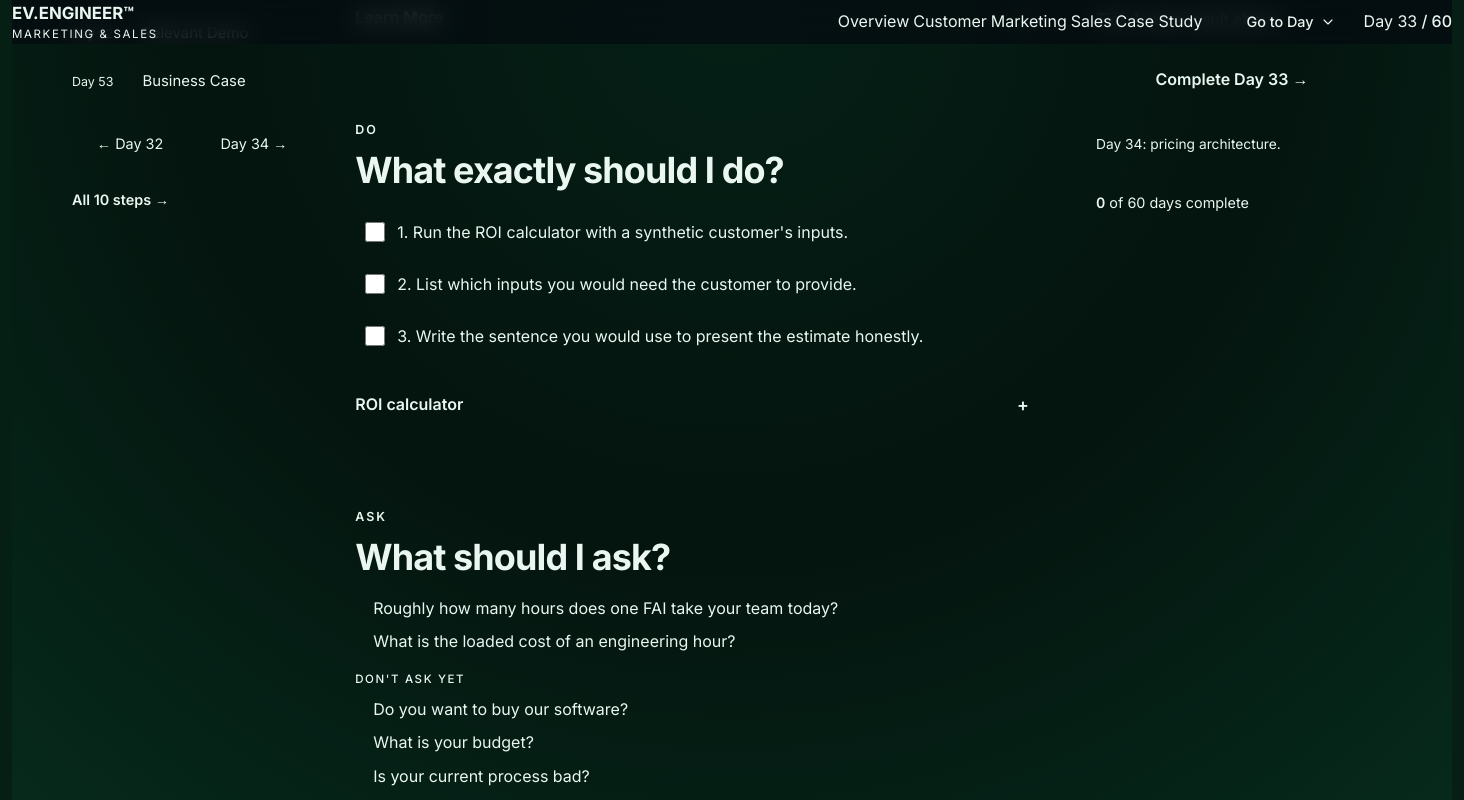
it: Today: what do I do today? › brings the ROI calculator into Day 33's Do card
(page scrolled)
Click the heading "ROI calculator" at [409, 404], box [355,394,463,414]
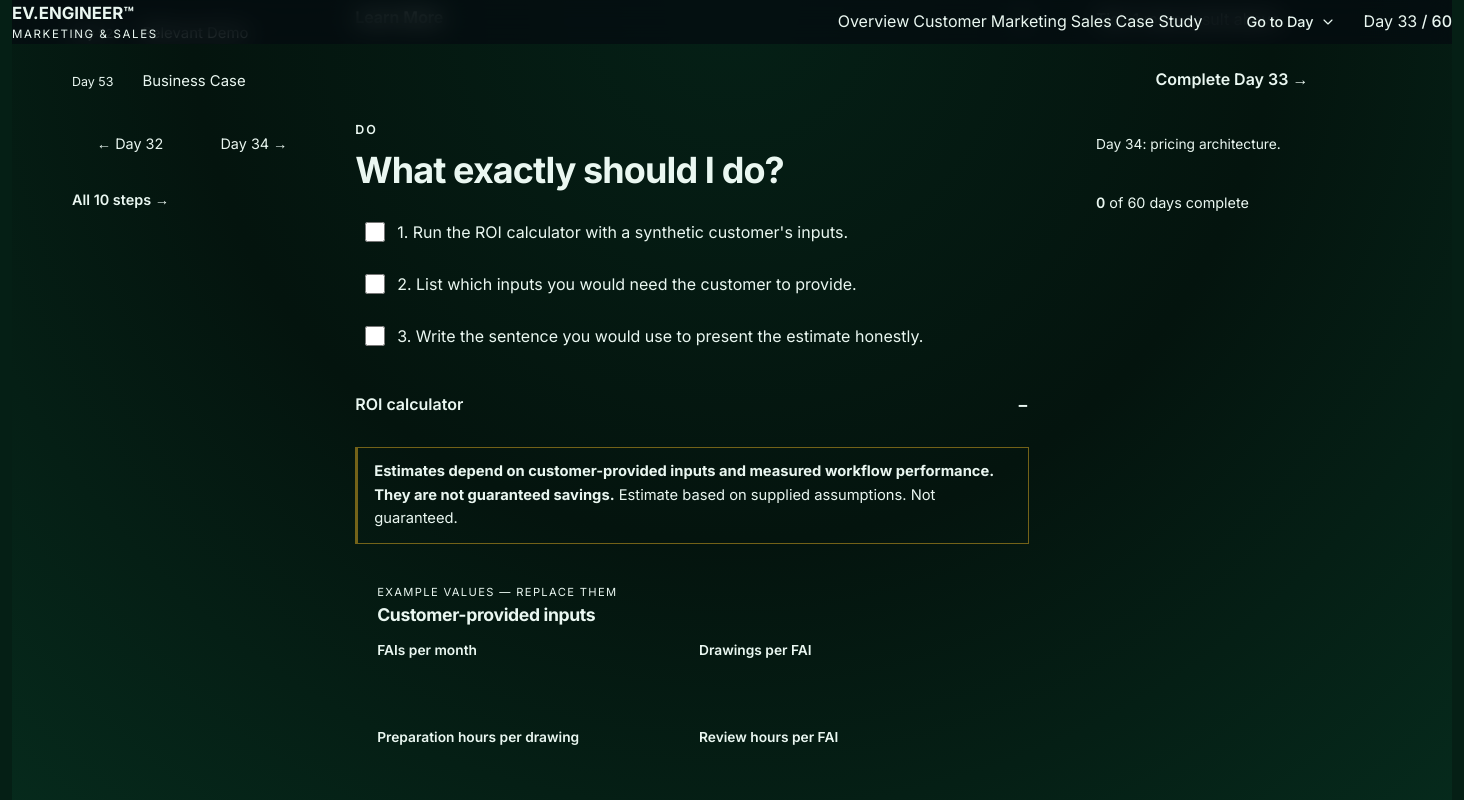
Check: the text "They are not guaranteed savings." is shown, box [374,462,994,504]
